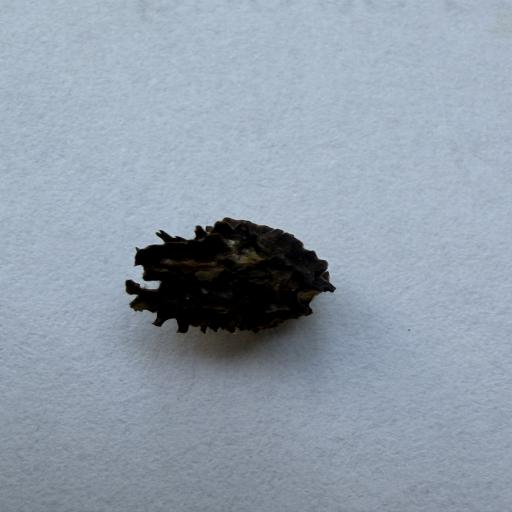papaya_seed: (86, 200, 376, 343)
